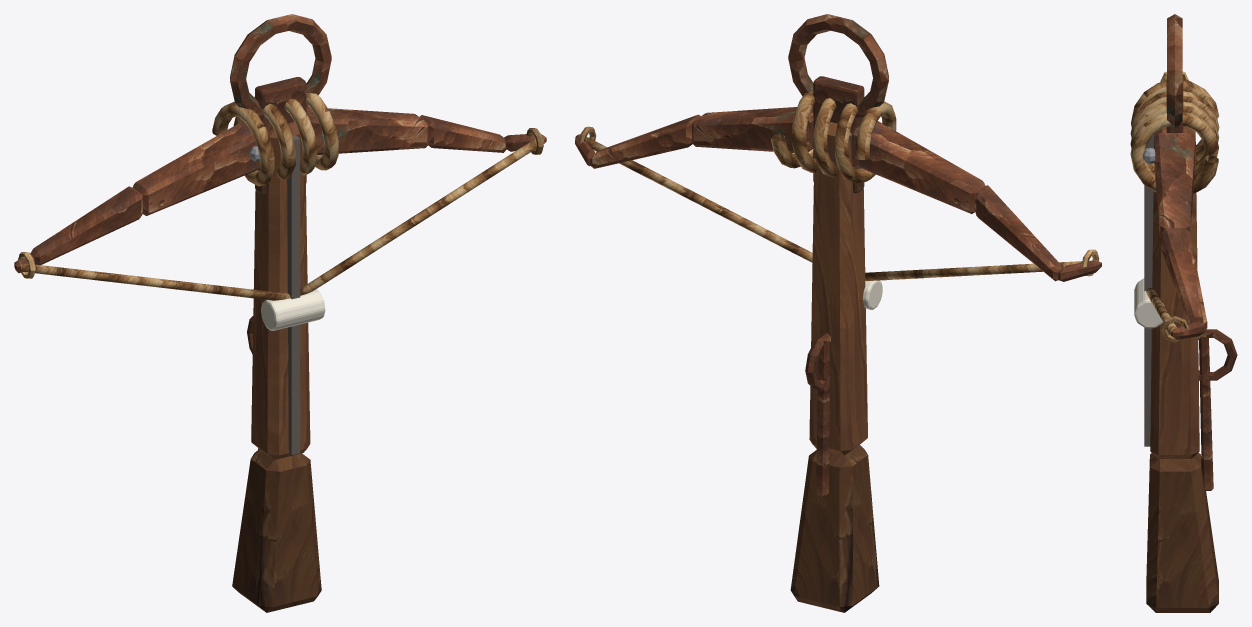
The model's file is crossbow_copper.glb.
The picture shows the model from 3 angles, left to right: view 1: azimuth 30°, elevation 25°; view 2: azimuth 150°, elevation 25°; view 3: azimuth 270°, elevation 25°; orthographic projection.
Visible parts, largest first — view 1: model; view 2: model; view 3: model.
Part boxes in pixels (<box>): model: <box>14,14,546,612</box>; model: <box>575,14,1101,612</box>; model: <box>1130,14,1237,612</box>.
Bounding box in the file's own units: 0.74 × 0.7792 × 0.13.
10 materials, 7 textured.
